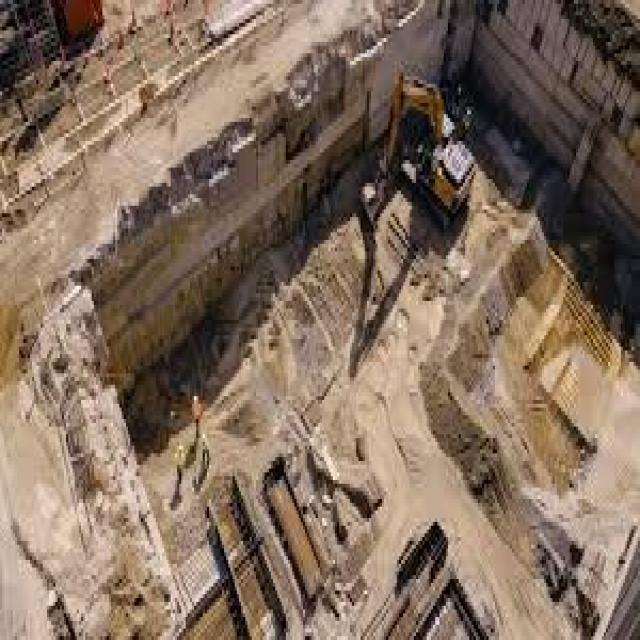Site Excavation: (63, 28, 636, 640)
